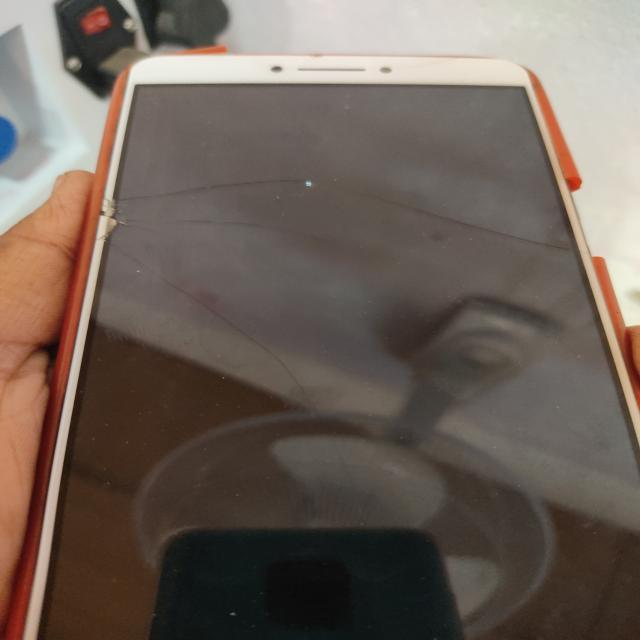screen crack: (84, 142, 579, 422)
